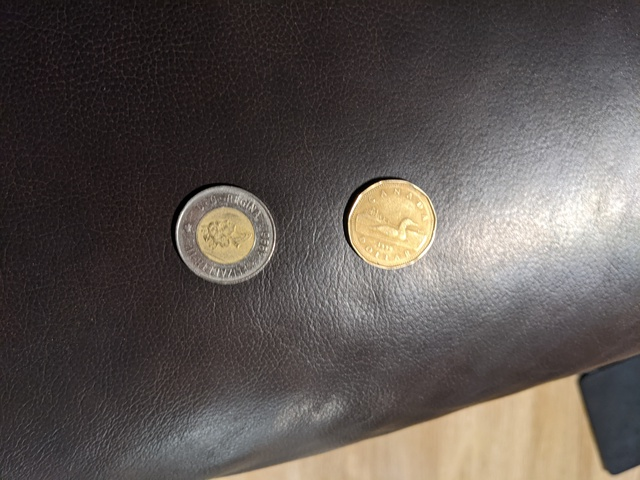loonie: (340, 169, 441, 266)
twonie: (167, 181, 278, 282)
